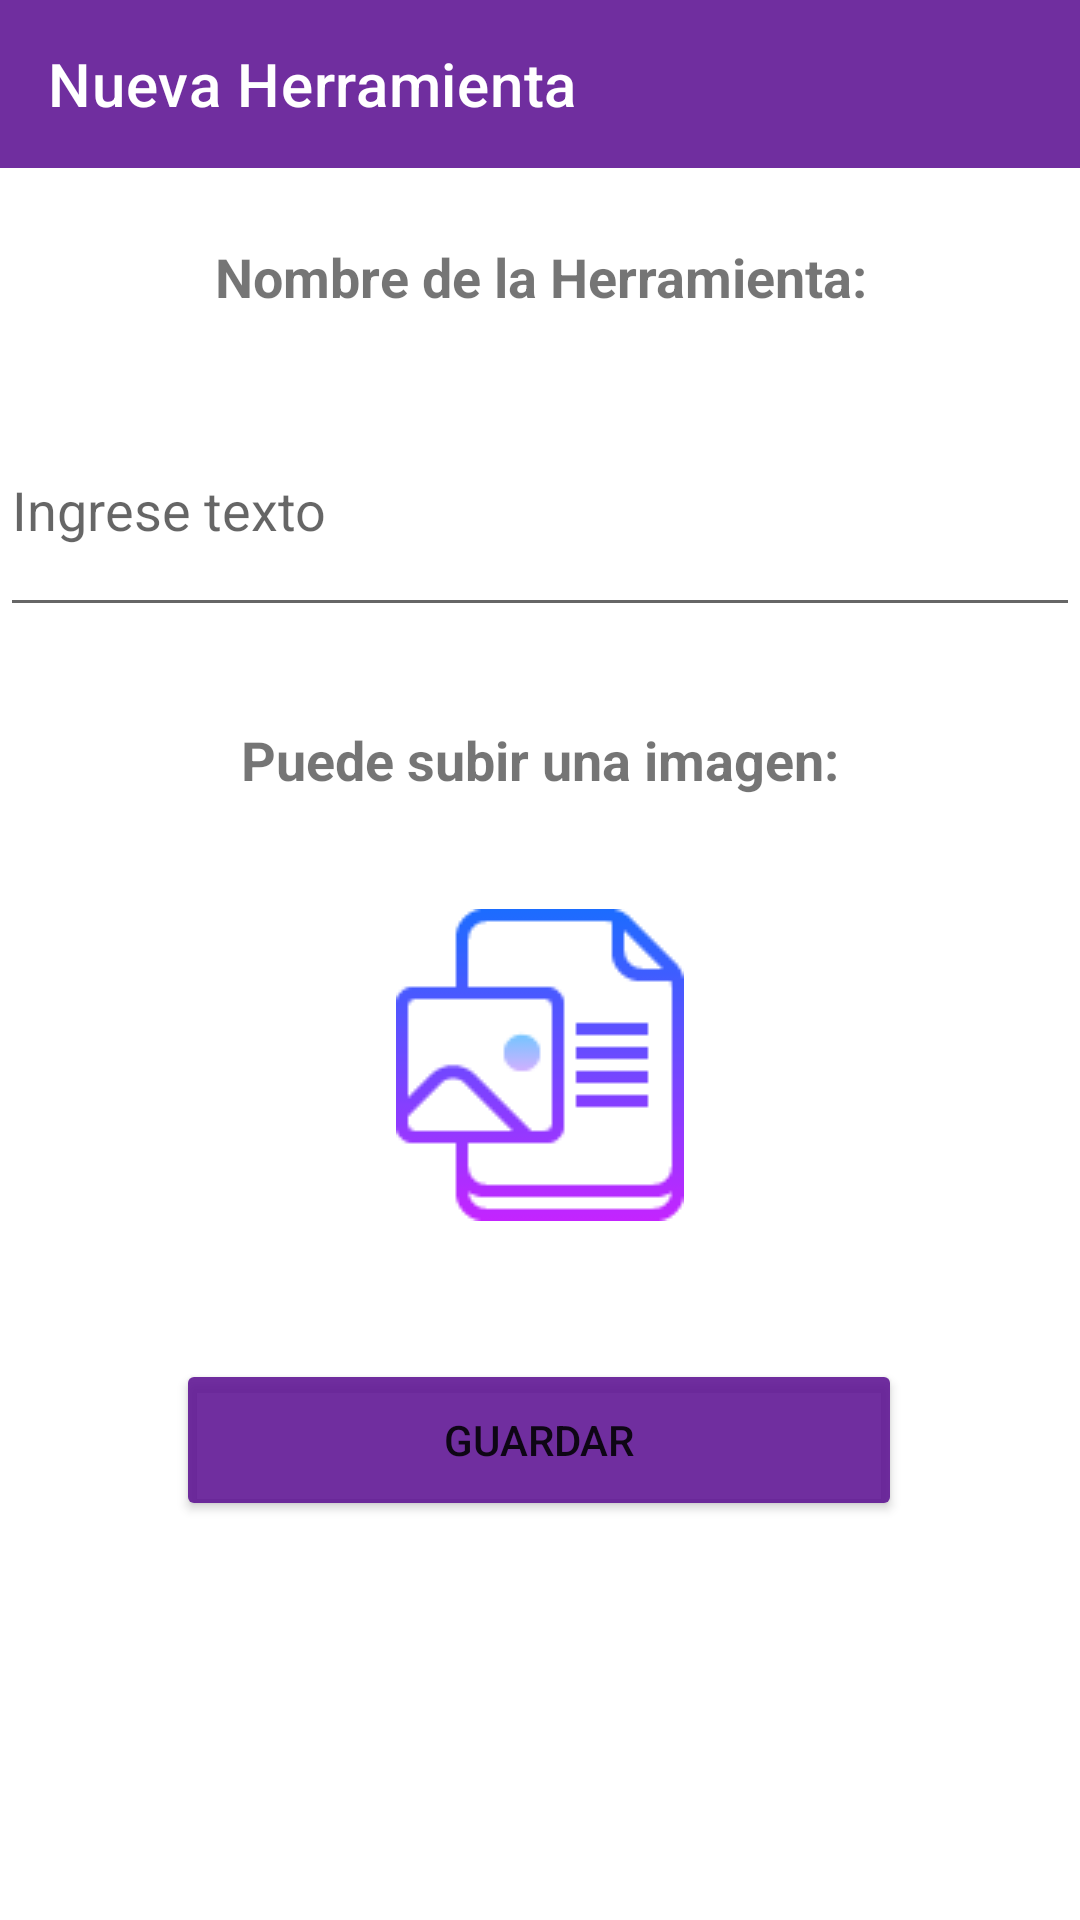

Icons on this 1080*1920 Android screen, each with the point to tap as (x,y):
Cargar imagen de la herramienta: (540,1065)
